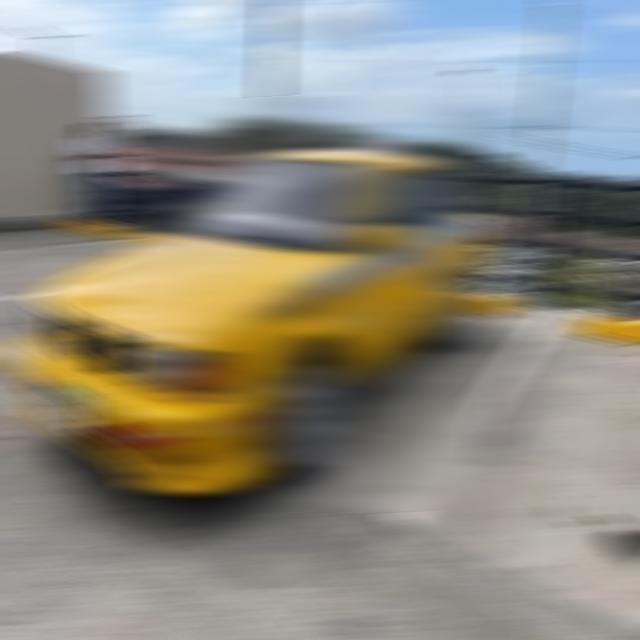Taxi: (122, 96, 488, 512)
